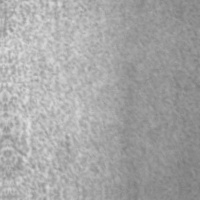pitted_surface: (2, 0, 112, 195), (99, 0, 199, 191)
